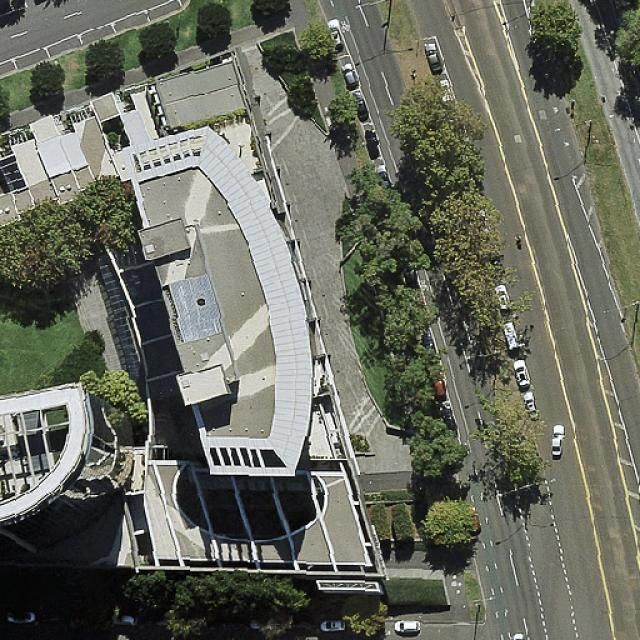Bike-Symbols: (419, 280, 429, 292), (340, 22, 350, 32)
